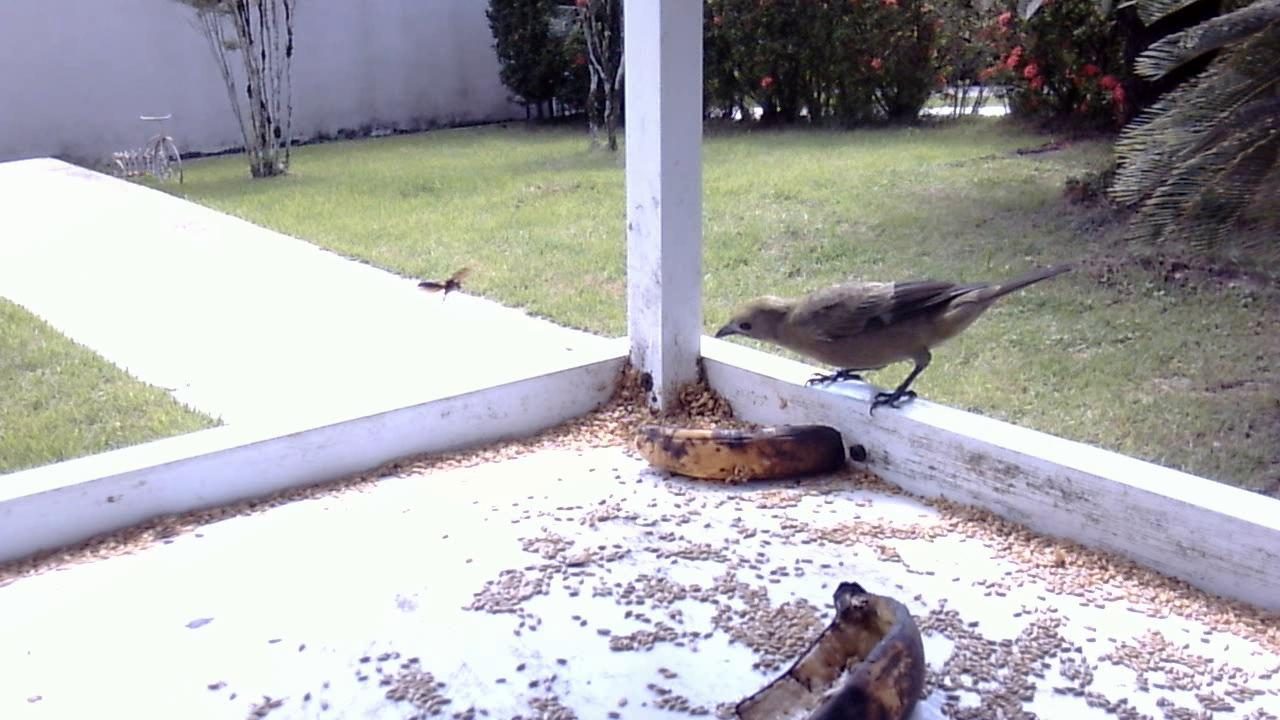sanhaco_do_coqueiro: (707, 258, 1078, 428)
